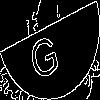G: (25, 25, 61, 82)
